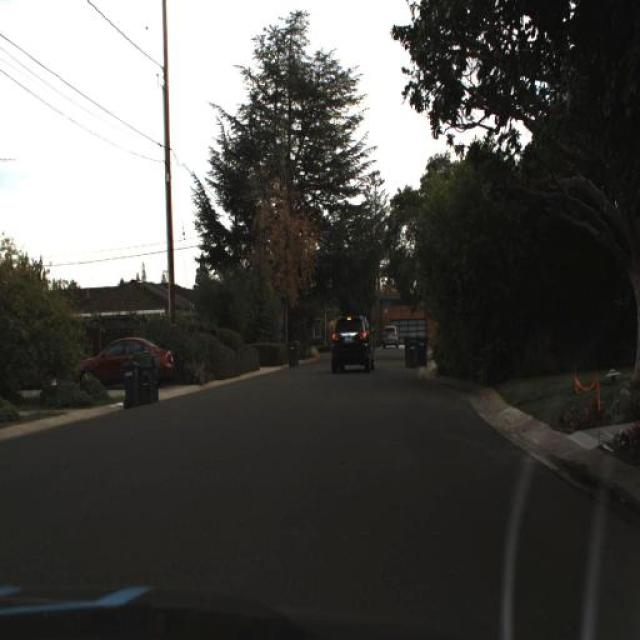car: (66, 325, 180, 393), (318, 302, 381, 384), (378, 320, 402, 354)
